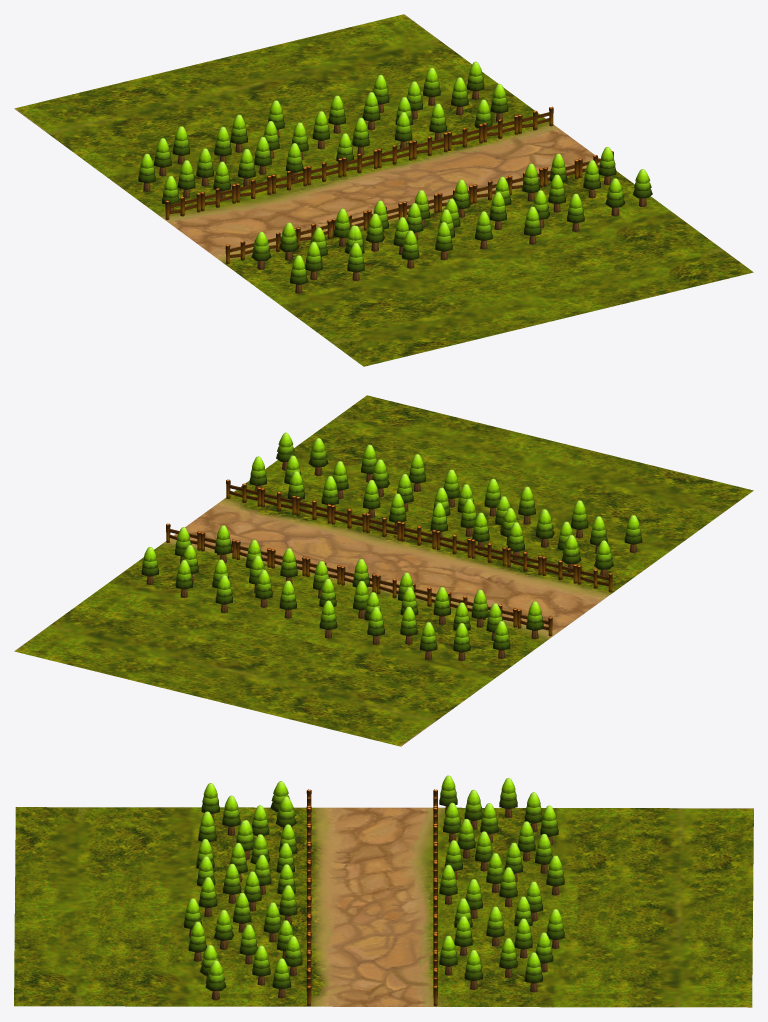
Rendered from ingame.FBX.
The picture shows the model from 3 angles, top to bottom: view 1: azimuth 30°, elevation 25°; view 2: azimuth 150°, elevation 25°; view 3: azimuth 270°, elevation 25°; orthographic projection. The views are drawn at different scales.
Visible parts, largest first — view 1: Plane001; view 2: Plane001; view 3: Plane001, Cylinder152, Cylinder153, Cylinder135, Cylinder132, Cylinder133, Cylinder114, Cylinder067, Cylinder124, Cylinder126, Cylinder128, Cylinder066 (+38 smaller).
Part boxes in pixels (box(x1,y1,x2,y2)): Plane001: box(14, 14, 753, 366); Plane001: box(14, 395, 753, 746); Plane001: box(14, 807, 753, 1007); Cylinder152: box(205, 960, 226, 1000); Cylinder153: box(214, 910, 233, 949); Cylinder135: box(499, 778, 517, 818); Cylinder132: box(524, 952, 542, 992); Cylinder133: box(499, 938, 517, 978); Cylinder114: box(252, 945, 270, 985); Cylinder067: box(454, 916, 472, 956); Cylinder124: box(272, 958, 290, 998); Cylinder126: box(499, 867, 517, 907); Cylinder128: box(514, 918, 532, 958); Cylinder066: box(486, 906, 504, 946).
Size of the model in its own units: 3995 by 351 by 6235.
